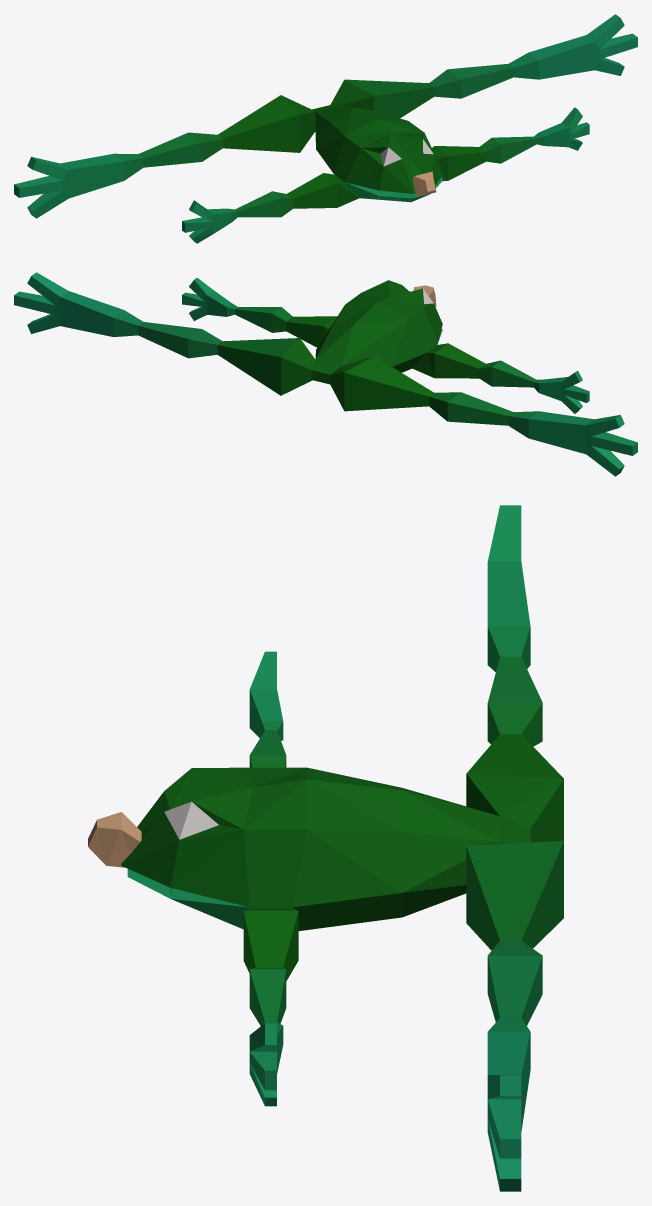
File: big_frog.gltf
3 views of the same model, one above another, from view 1: azimuth 30°, elevation 25°; view 2: azimuth 150°, elevation 25°; view 3: azimuth 270°, elevation 25° (orthographic). The views are drawn at different scales.
Size of the model in its own units: 468 by 63 by 156.
1 material, 1 textured.
